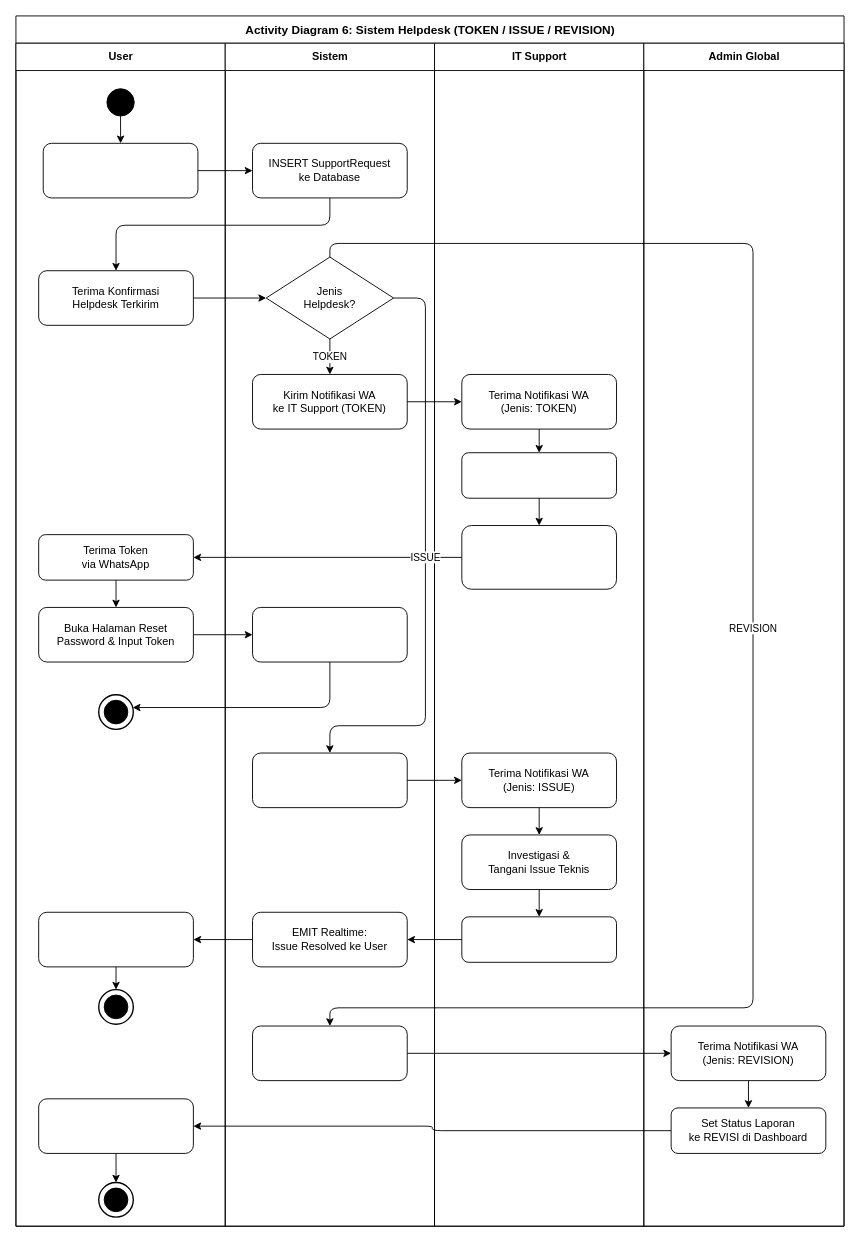
Some shapes in this 860 by 1242 pixel diagram are drawn without their labels. The centre of each missing label's shape, as x and y in pixels:
"Ajukan Helpdesk (Isi Jenis & Deskripsi)" goes at (x=120, y=170).
"EMIT Realtime: Akun Ter-UNLOCK" goes at (x=329, y=634).
"Generate Token Reset Password (expiry: 1 jam) via Sistem" goes at (x=539, y=557).
"Kirim Notifikasi WA ke Admin Global (REVISION)" goes at (x=329, y=1053).
"Kirim Notifikasi WA ke IT Support (ISSUE)" goes at (x=329, y=780).
"Terima Notifikasi Issue Telah Ditangani" goes at (x=115, y=939).
"Terima Notifikasi Status Laporan REVISI" goes at (x=115, y=1125).
"UPDATE SupportRequest = RESOLVED" goes at (x=539, y=939).
"Verifikasi Identitas User" goes at (x=539, y=475).
